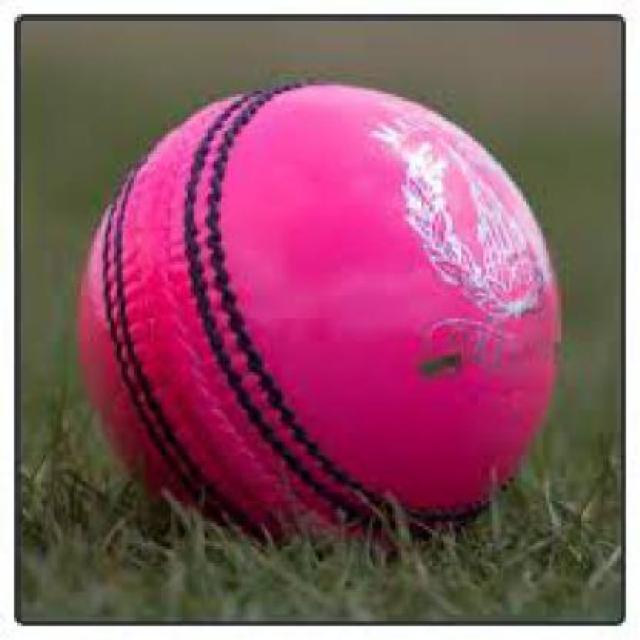ball: (62, 63, 602, 558)
